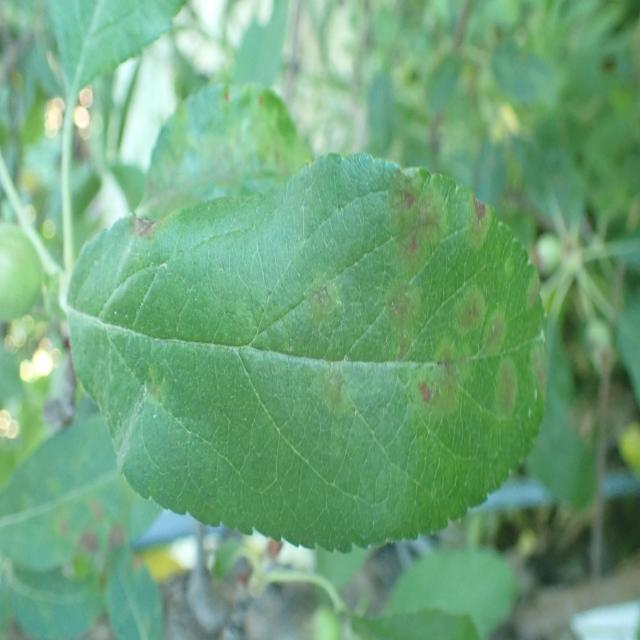scab: (86, 173, 552, 500)
